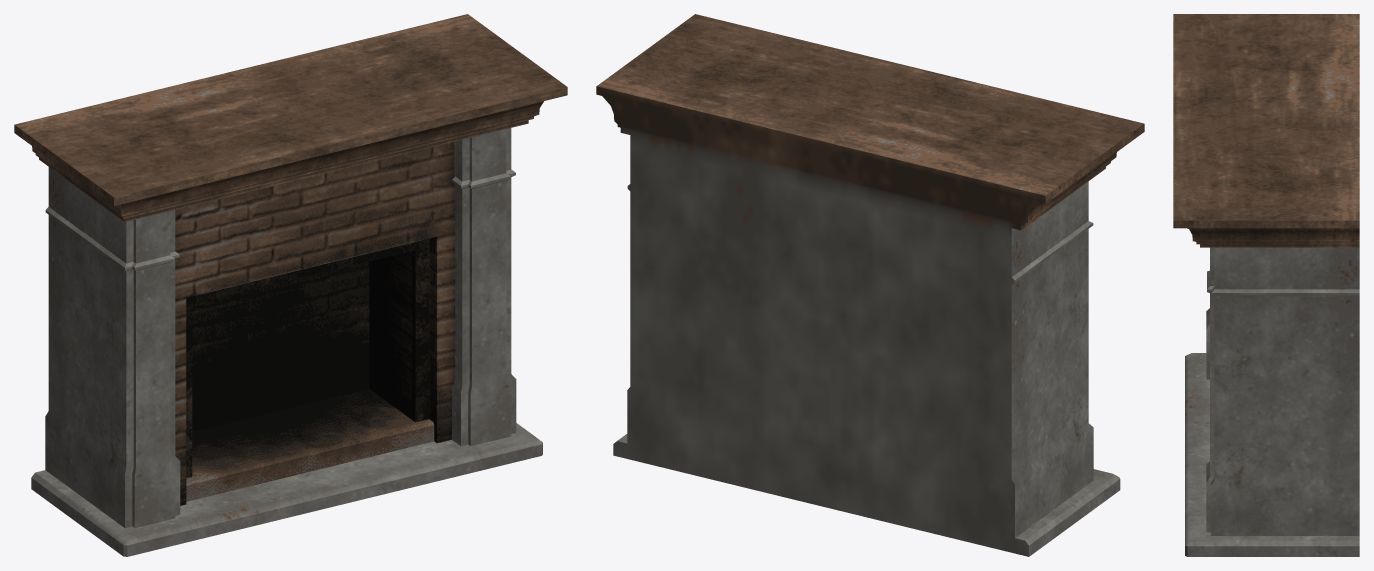
The model's file is fireplace.glb.
3 renders of one model, left to right at view 1: azimuth 30°, elevation 25°; view 2: azimuth 150°, elevation 25°; view 3: azimuth 270°, elevation 25°, orthographic. The views are drawn at different scales.
Visible parts, largest first — view 1: fireplace; view 2: fireplace; view 3: fireplace.
Boxes of the visible parts, x1=… form: fireplace: x1=14, y1=14, x2=567, y2=556; fireplace: x1=596, y1=14, x2=1144, y2=556; fireplace: x1=1173, y1=14, x2=1359, y2=556.
Size of the model in its own units: 5.64 by 4.38 by 2.15.
Materials: 1 (1 with a texture image).
